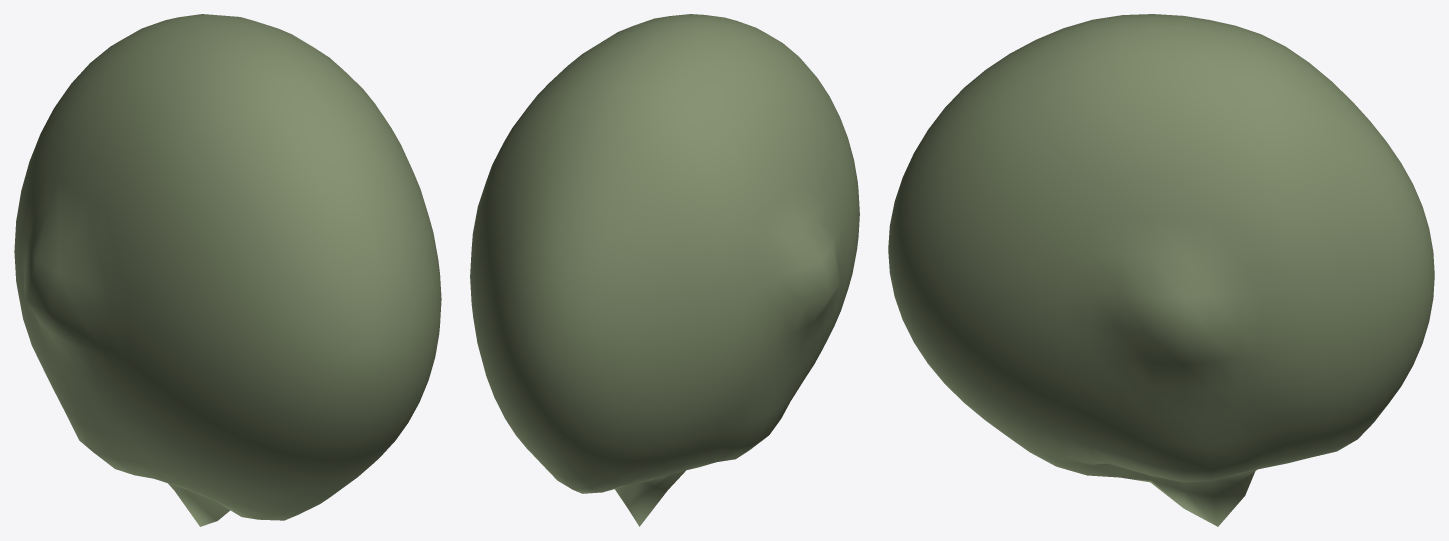
The model's file is head.obj.
The picture shows the model from 3 angles, left to right: view 1: azimuth 30°, elevation 25°; view 2: azimuth 150°, elevation 25°; view 3: azimuth 270°, elevation 25°; orthographic projection. The views are drawn at different scales.
Parts seen in each view (by area): view 1: Head; view 2: Head; view 3: Head.
Boxes of the visible parts, x1,y1,x2,y2 form: Head: [14, 14, 441, 526]; Head: [470, 14, 859, 526]; Head: [888, 14, 1434, 526].
Bounding box in the file's own units: 0.1812 × 0.2331 × 0.231.
